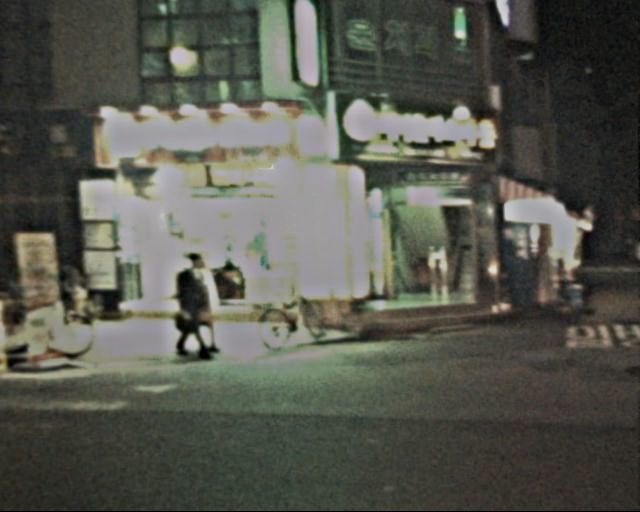person: (161, 250, 216, 363)
